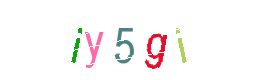5: (87, 0, 167, 80)
G: (101, 0, 181, 80)
I: (36, 0, 116, 80), (116, 0, 196, 80)
Y: (66, 0, 146, 80)
